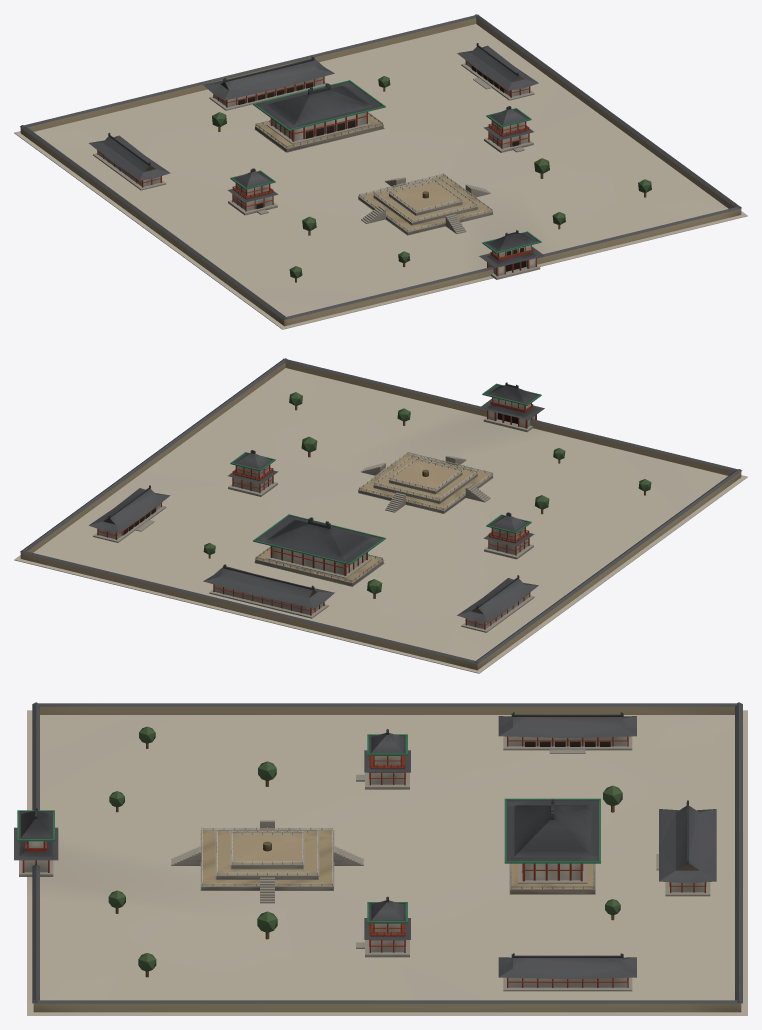
The model's file is xuandu-guan.glb.
3 renders of one model, top to bottom at view 1: azimuth 30°, elevation 25°; view 2: azimuth 150°, elevation 25°; view 3: azimuth 270°, elevation 25°, orthographic. The views are drawn at different scales.
Visible parts, largest first — view 1: p0_altar, p2_trees, p1_halls; view 2: p0_altar, p2_trees, p1_halls; view 3: p0_altar, p2_trees, p1_halls.
Boxes of the visible parts, <box> form: p0_altar: <box>14,14,747,329</box>; p2_trees: <box>89,43,651,282</box>; p1_halls: <box>93,60,540,279</box>; p0_altar: <box>14,358,747,673</box>; p2_trees: <box>89,382,651,622</box>; p1_halls: <box>93,397,539,632</box>; p0_altar: <box>27,702,747,1015</box>; p2_trees: <box>14,712,716,979</box>; p1_halls: <box>19,736,710,991</box>.
Size of the model in its own units: 240 by 21.69 by 244.
